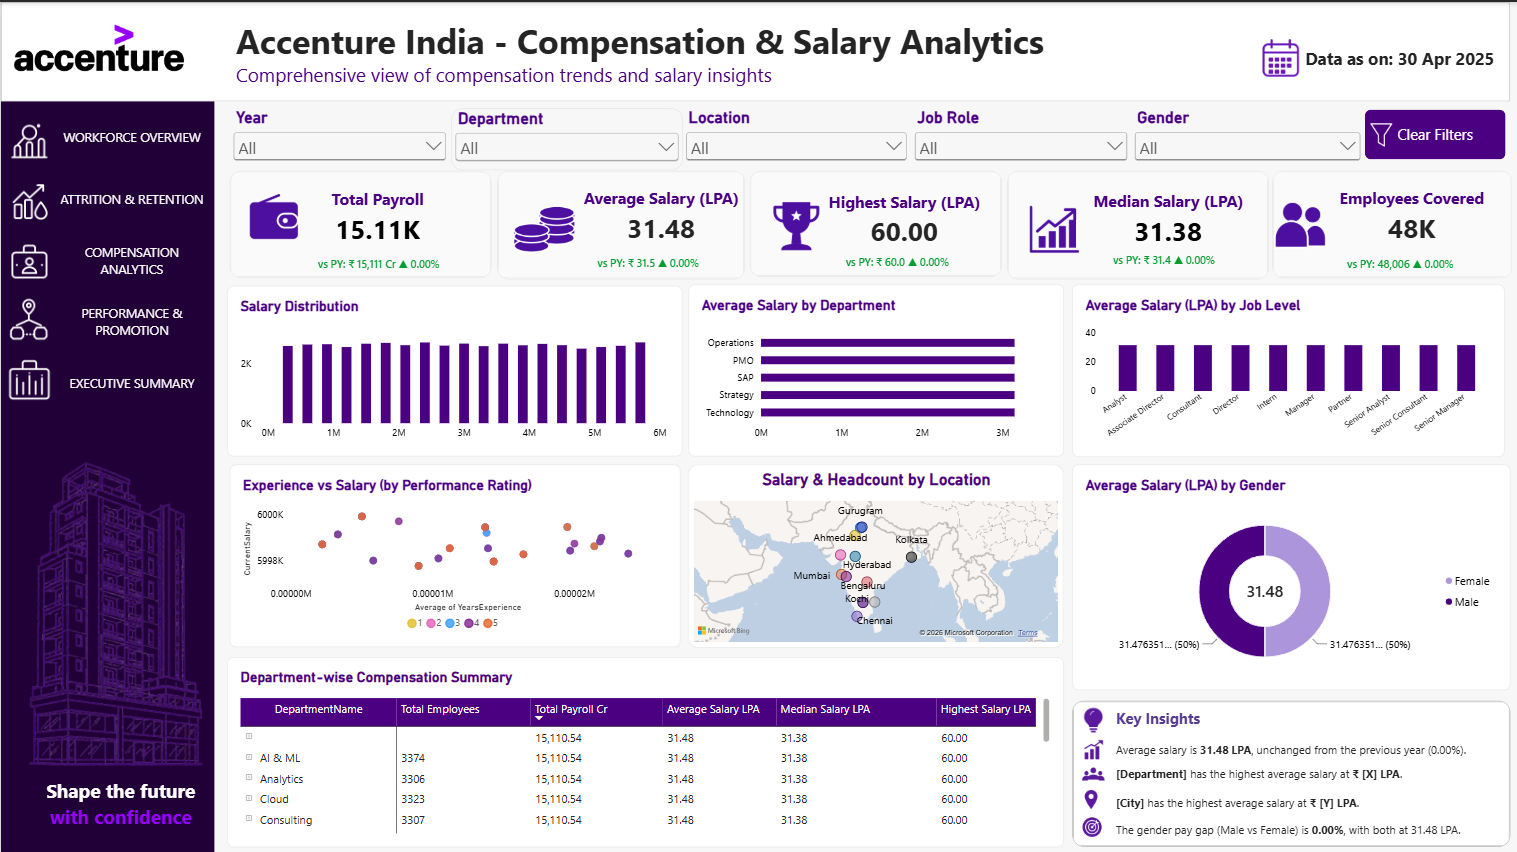

What the dashboard file says about the page in this screenshot:
{"tool":"powerbi","page":{"name":"COMPENSATION ANALYTICS","canvas":[1920,1080],"ordinal":2},"visuals":[{"type":"shape","box":[0,26,270,1054],"z":0},{"type":"group","id":"g1","title":"Group 3","box":[0,498,290,568.7],"z":1000},{"type":"group","id":"g2","title":"Group 1","box":[0,126.7,270,395.3],"z":2000},{"type":"image","box":[0,498,290,540],"z":2000,"group":"g1"},{"type":"shape","box":[0,0,1909.3,125.9],"z":3000},{"type":"image","box":[11.4,10,225.7,104.3],"z":3000,"group":"g3"},{"type":"group","id":"g3","title":"Group 2","box":[11.4,10,1899.3,116.7],"z":4000},{"type":"textbox","box":[297.4,20,1613.3,106.7],"z":4000,"group":"g3"},{"type":"slicer","fields":{"Values":["DimDate.Year"]},"box":[290,135,278.8,78.8],"z":5000},{"type":"textbox","box":[1631.6,56.7,278.3,38.3],"z":6000,"group":"g3"},{"type":"slicer","fields":{"Values":["DimJobLevel.JobLevel"]},"box":[1151.2,135,278.8,78.8],"z":6000},{"type":"slicer","fields":{"Values":["DimLocation.City"]},"box":[862.5,135,288.8,91.2],"z":7000},{"type":"textbox","box":[33.3,981.7,236.7,85],"z":7000,"group":"g1"},{"type":"image","box":[0,126.7,71.7,100],"z":8000,"group":"g2"},{"type":"slicer","fields":{"Values":["DimEmployee.Gender"]},"box":[1430,135,295,78.8],"z":8000},{"type":"slicer","fields":{"Values":["DimDepartment.DepartmentName"]},"box":[568.8,135,293.8,78.8],"z":9000},{"type":"image","box":[1.7,213.4,71.7,76.7],"z":9000,"group":"g2"},{"type":"shape","box":[290,214.3,331.4,135.7],"z":10000},{"type":"image","box":[0,290,71.7,75],"z":10000,"group":"g2"},{"type":"shape","box":[628,214,313.3,137.3],"z":11000},{"type":"image","box":[0,365,70,73.3],"z":11000,"group":"g2"},{"type":"shape","box":[948,214,319.3,134],"z":12000},{"type":"image","box":[0,435,71.7,85],"z":12000,"group":"g2"},{"type":"shape","box":[1274,214,331.3,137.3],"z":13000},{"type":"pageNavigator","box":[62,136,208,386],"z":14000,"group":"g2"},{"type":"shape","box":[1608,214,304,136],"z":14000},{"type":"shape","box":[1355.3,884.1,554.7,184.7],"z":15000},{"type":"image","box":[1576.2,40,85,63.8],"z":16000},{"type":"image","box":[305,225,80,93.3],"z":17000},{"type":"image","box":[1292,242,80,93.3],"z":18000},{"type":"image","box":[637.5,225,100,100],"z":19000},{"type":"image","box":[1605,235,80,93.3],"z":20000},{"type":"image","box":[966.7,236.7,80,93.3],"z":21000},{"type":"cardVisual","fields":{"Data":["DimDate.Total Payroll Cr"]},"box":[370,232.5,213.8,81.2],"z":22000},{"type":"cardVisual","fields":{"Data":["DimDate.Total Payroll vs PY Text"]},"box":[383.8,316.2,187.5,30],"z":23000},{"type":"cardVisual","fields":{"Data":["DimDate.Average Salary LPA"]},"box":[715,237.5,241.7,68.3],"z":24000},{"type":"cardVisual","fields":{"Data":["DimDate.Average Salary vs PY Text"]},"box":[730,303.3,176.7,51.7],"z":25000},{"type":"cardVisual","fields":{"Data":["DimDate.Employees Covered"]},"box":[1660,225,252,92],"z":26000},{"type":"cardVisual","fields":{"Data":["DimDate.Median Salary vs PY Text"]},"box":[1372.5,315,197.5,22.5],"z":27000},{"type":"cardVisual","fields":{"Data":["DimDate.Median Salary LPA"]},"box":[1357.5,237.5,240,76],"z":28000},{"type":"cardVisual","fields":{"Data":["DimDate.Highest Salary vs PY Text"]},"box":[1026.7,318.3,215,20],"z":29000},{"type":"cardVisual","fields":{"Data":["DimDate.Highest Salary LPA"]},"box":[1027.5,237.5,230,77.5],"z":30000},{"type":"cardVisual","fields":{"Data":["DimDate.Employees Covered vs PY Text"]},"box":[1675,315,191,34],"z":31000},{"type":"clusteredColumnChart","title":"Salary Distribution","fields":{"Category":["FactWorkforce.CurrentSalary (bins)"],"Y":["DimDate.Total Employees"]},"box":[285.7,358.6,575.7,215.7],"z":32000},{"type":"clusteredBarChart","title":"Average Salary by Department","fields":{"Category":["DimDepartment.DepartmentName"],"Y":["Avg(FactWorkforce.CurrentSalary)"]},"box":[870,357.5,475,217.5],"z":33000},{"type":"clusteredColumnChart","title":"Average Salary (LPA) by Job Level","fields":{"Category":["DimJobLevel.JobLevel"],"Y":["DimDate.Average Salary LPA"]},"box":[1355,357.5,547.1,218.6],"z":34000},{"type":"scatterChart","title":"Experience vs Salary (by Performance Rating)","fields":{"Series":["FactPerformance.PerformanceRating"],"X":["Avg(FactWorkforce.YearsExperience)"],"Y":["FactWorkforce.CurrentSalary"]},"box":[290,585.7,570,231.2],"z":35000},{"type":"map","title":"Salary & Headcount by Location","fields":{"Category":["DimLocation.City"],"Size":["DimDate.Average Salary LPA"]},"box":[870,585.9,474.1,231.8],"z":36000},{"type":"donutChart","title":"Average Salary (LPA) by Gender","fields":{"Category":["DimEmployee.Gender"],"Y":["DimDate.Average Salary LPA"]},"box":[1355.3,585.9,554.7,285.3],"z":37000},{"type":"pivotTable","title":"Department-wise Compensation Summary","fields":{"Rows":["DimDepartment.DepartmentName","DimJobLevel.JobLevel"],"Values":["DimDate.Total Employees","DimDate.Total Payroll Cr","DimDate.Average Salary LPA","DimDate.Median Salary LPA","DimDate.Highest Salary LPA"]},"box":[285.9,828.2,1058.2,240.6],"z":38000},{"type":"actionButton","box":[1726,136,178.3,63.3],"z":39000},{"type":"image","box":[1728,154,41.1,29.5],"z":40000},{"type":"textbox","box":[1411.5,936.2,475,46.4],"z":41000},{"type":"textbox","box":[1411.5,966.9,453.6,30.4],"z":42000},{"type":"textbox","box":[1411.5,1002.3,430.4,32.1],"z":43000},{"type":"textbox","box":[1411.5,1037.7,491.1,39.3],"z":44000},{"type":"image","box":[1360,931.5,46.2,30],"z":45000},{"type":"image","box":[1363.1,964.6,37.7,29.2],"z":46000},{"type":"image","box":[1363.1,993.8,32.3,30],"z":47000},{"type":"image","box":[1363.1,1029.2,34.6,28.5],"z":48000},{"type":"image","box":[1363.8,890,37.5,35.7],"z":49000},{"type":"textbox","box":[1411.4,894.3,190,41.4],"z":50000}]}

Visuals, with their boxes in screenshot pixels (x1, y1, x2, y2), scaled from the page's 1920x1080 canvas onto the 1517x852 screenshot:
shape: 0, 21, 213, 851
"Group 3" group: 0, 393, 229, 842
"Group 1" group: 0, 100, 213, 412
image: 0, 393, 229, 819
shape: 0, 0, 1509, 99
image: 9, 8, 187, 90
"Group 2" group: 9, 8, 1510, 100
textbox: 235, 16, 1510, 100
slicer - DimDate.Year: 229, 106, 449, 169
textbox: 1289, 45, 1509, 75
slicer - DimJobLevel.JobLevel: 910, 106, 1130, 169
slicer - DimLocation.City: 681, 106, 910, 178
textbox: 26, 774, 213, 842
image: 0, 100, 57, 179
slicer - DimEmployee.Gender: 1130, 106, 1363, 169
slicer - DimDepartment.DepartmentName: 449, 106, 682, 169
image: 1, 168, 58, 229
shape: 229, 169, 491, 276
image: 0, 229, 57, 288
shape: 496, 169, 744, 277
image: 0, 288, 55, 346
shape: 749, 169, 1001, 275
image: 0, 343, 57, 410
shape: 1007, 169, 1268, 277
pageNavigator: 49, 107, 213, 412
shape: 1270, 169, 1511, 276
shape: 1071, 697, 1509, 843
image: 1245, 32, 1313, 82
image: 241, 178, 304, 251
image: 1021, 191, 1084, 265
image: 504, 178, 583, 256
image: 1268, 185, 1331, 259
image: 764, 187, 827, 260
cardVisual - DimDate.Total Payroll Cr: 292, 183, 461, 247
cardVisual - DimDate.Total Payroll vs PY Text: 303, 249, 451, 273
cardVisual - DimDate.Average Salary LPA: 565, 187, 756, 241
cardVisual - DimDate.Average Salary vs PY Text: 577, 239, 716, 280
cardVisual - DimDate.Employees Covered: 1312, 178, 1511, 250
cardVisual - DimDate.Median Salary vs PY Text: 1084, 248, 1240, 266
cardVisual - DimDate.Median Salary LPA: 1073, 187, 1262, 247
cardVisual - DimDate.Highest Salary vs PY Text: 811, 251, 981, 267
cardVisual - DimDate.Highest Salary LPA: 812, 187, 994, 248
cardVisual - DimDate.Employees Covered vs PY Text: 1323, 248, 1474, 275
"Salary Distribution" clusteredColumnChart: 226, 283, 681, 453
"Average Salary by Department" clusteredBarChart: 687, 282, 1063, 454
"Average Salary (LPA) by Job Level" clusteredColumnChart: 1071, 282, 1503, 454
"Experience vs Salary (by Performance Rating)" scatterChart: 229, 462, 679, 644
"Salary & Headcount by Location" map: 687, 462, 1062, 645
"Average Salary (LPA) by Gender" donutChart: 1071, 462, 1509, 687
"Department-wise Compensation Summary" pivotTable: 226, 653, 1062, 843
actionButton: 1364, 107, 1505, 157
image: 1365, 121, 1398, 145
textbox: 1115, 739, 1491, 775
textbox: 1115, 763, 1474, 787
textbox: 1115, 791, 1455, 816
textbox: 1115, 819, 1503, 850
image: 1075, 735, 1111, 759
image: 1077, 761, 1107, 784
image: 1077, 784, 1103, 808
image: 1077, 812, 1104, 834
image: 1078, 702, 1107, 730
textbox: 1115, 706, 1265, 738
